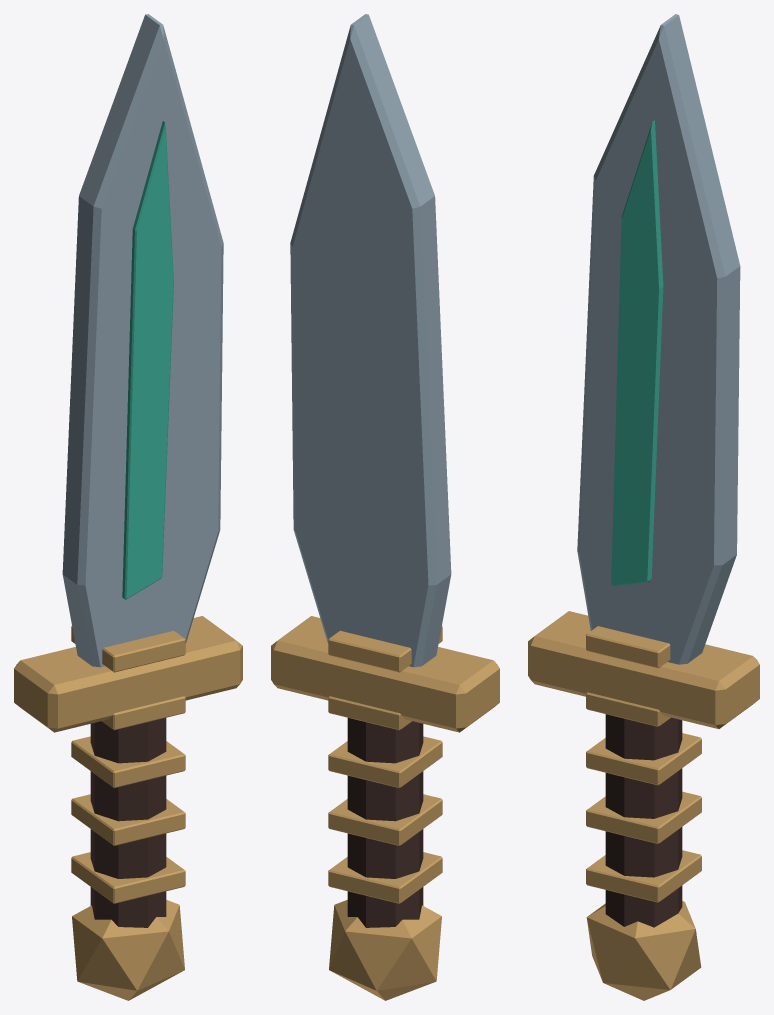
Rendered from forge-dagger-v2.glb.
3 renders of one model, left to right at view 1: azimuth 30°, elevation 25°; view 2: azimuth 150°, elevation 25°; view 3: azimuth 330°, elevation 25°, orthographic.
Parts seen in each view (by area): view 1: forge-dagger-v2; view 2: forge-dagger-v2; view 3: forge-dagger-v2.
Boxes of the visible parts, left/top/right/bottom form: forge-dagger-v2: left=14, top=14, right=242, bottom=1000; forge-dagger-v2: left=271, top=14, right=499, bottom=1000; forge-dagger-v2: left=528, top=14, right=759, bottom=1000.
Bounding box in the file's own units: 0.3 × 1.43 × 0.131.
